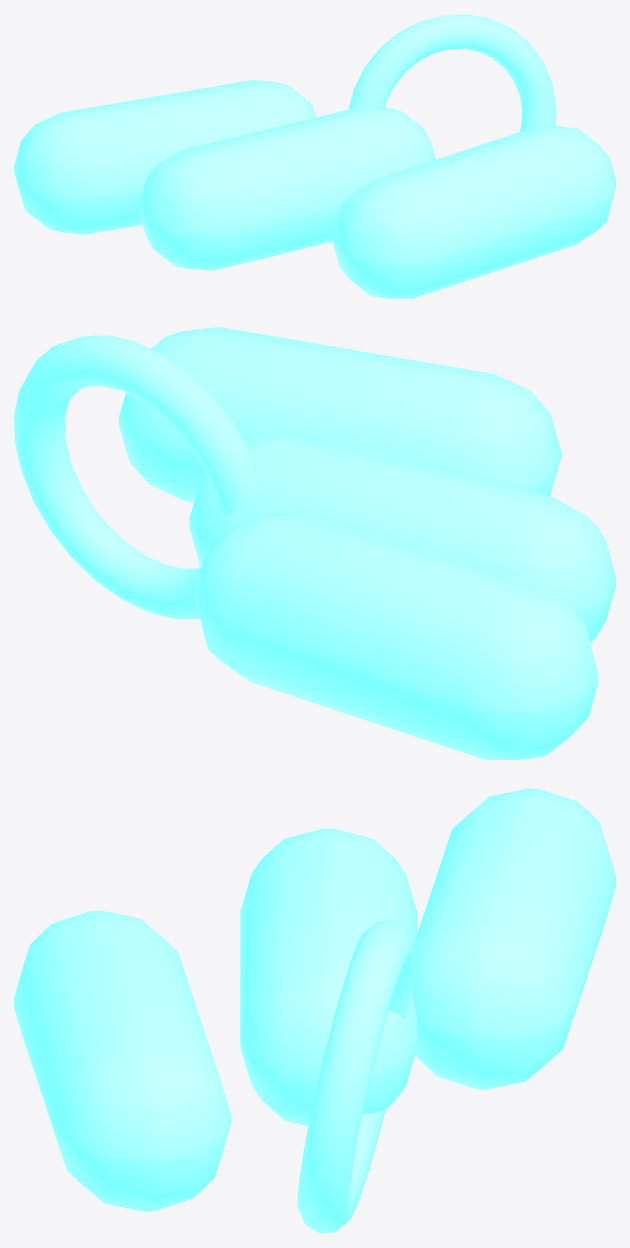
The model's file is tiktok.glb.
The picture shows the model from 3 angles, top to bottom: view 1: azimuth 30°, elevation 25°; view 2: azimuth 150°, elevation 25°; view 3: azimuth 270°, elevation 25°; orthographic projection. The views are drawn at different scales.
Parts seen in each view (by area): view 1: Cube.002, Cube.001, Cube, Torus; view 2: Cube, Cube.002, Cube.001, Torus; view 3: Cube.002, Cube, Cube.001, Torus.
Boxes of the visible parts, x1,y1,x2,y2 form: Cube.002: [333, 126, 615, 298]; Cube.001: [138, 107, 435, 270]; Cube: [14, 80, 316, 234]; Torus: [348, 14, 556, 131]; Cube: [195, 514, 598, 759]; Cube.002: [119, 327, 560, 502]; Cube.001: [189, 435, 615, 642]; Torus: [14, 335, 257, 619]; Cube.002: [14, 910, 230, 1211]; Cube: [411, 788, 615, 1089]; Cube.001: [240, 828, 416, 1126]; Torus: [297, 920, 414, 1233].
Size of the model in its own units: 2.82 by 1.15 by 2.19.
